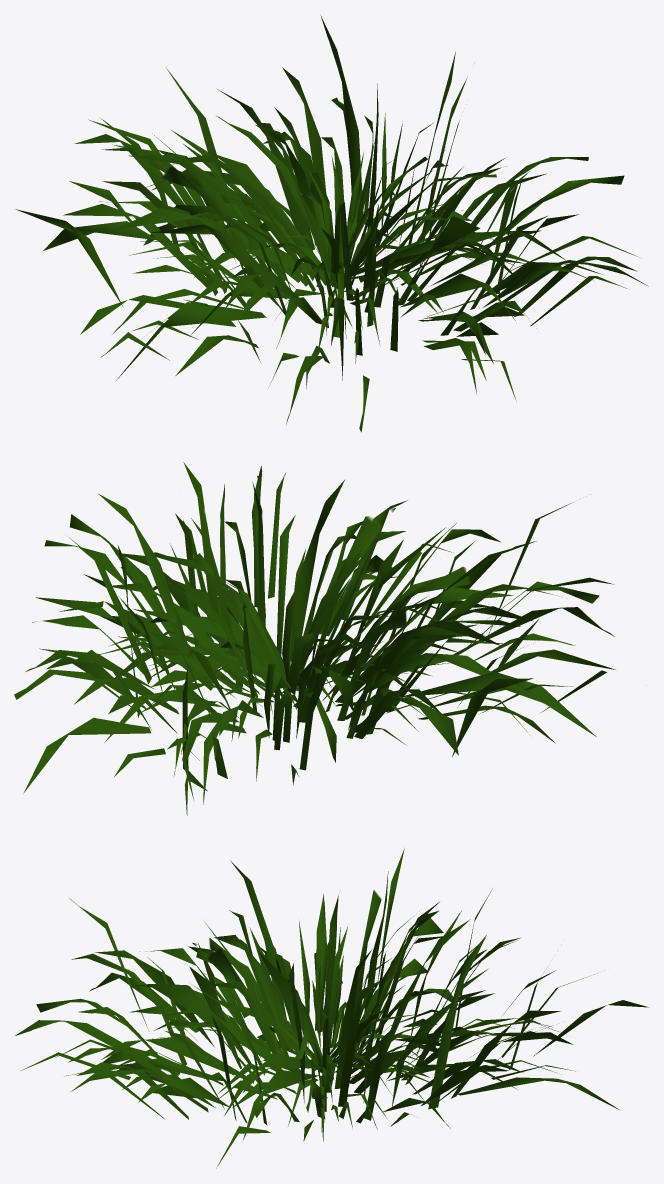
Rendered from bush.glb.
3 renders of one model, top to bottom at view 1: azimuth 30°, elevation 25°; view 2: azimuth 150°, elevation 25°; view 3: azimuth 270°, elevation 25°, orthographic. The views are drawn at different scales.
Parts seen in each view (by area): view 1: grass_Shape; view 2: grass_Shape; view 3: grass_Shape.
Boxes of the visible parts, x1,y1,x2,y2 form: grass_Shape: [15, 15, 648, 432]; grass_Shape: [14, 462, 615, 815]; grass_Shape: [15, 848, 649, 1168].
Size of the model in its own units: 3.47 by 1.2 by 3.92.
Materials: 1 (1 with a texture image).
